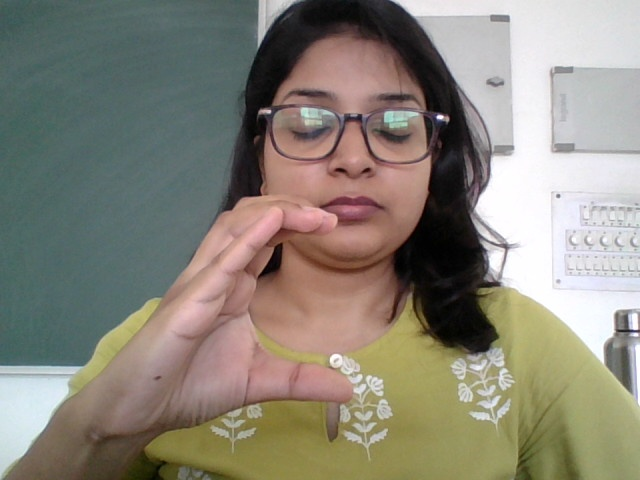C: (113, 194, 356, 434)
